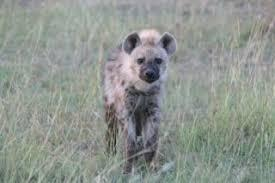hyenas: (88, 26, 185, 181)
